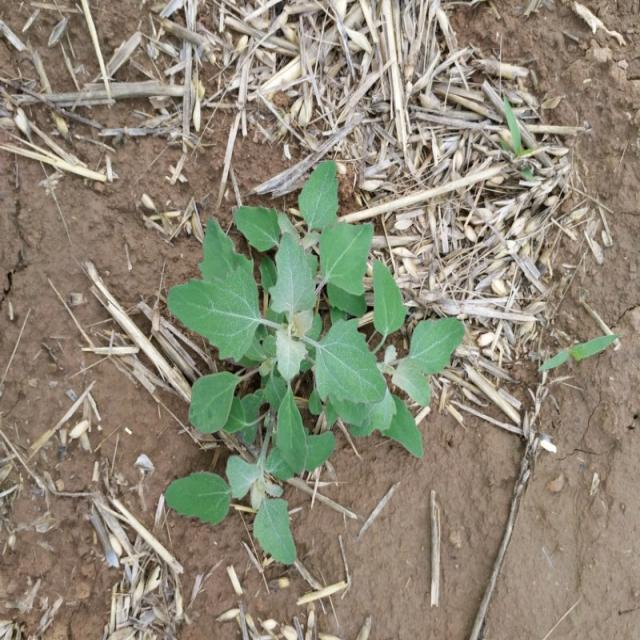goosefoots: (146, 174, 443, 550)
